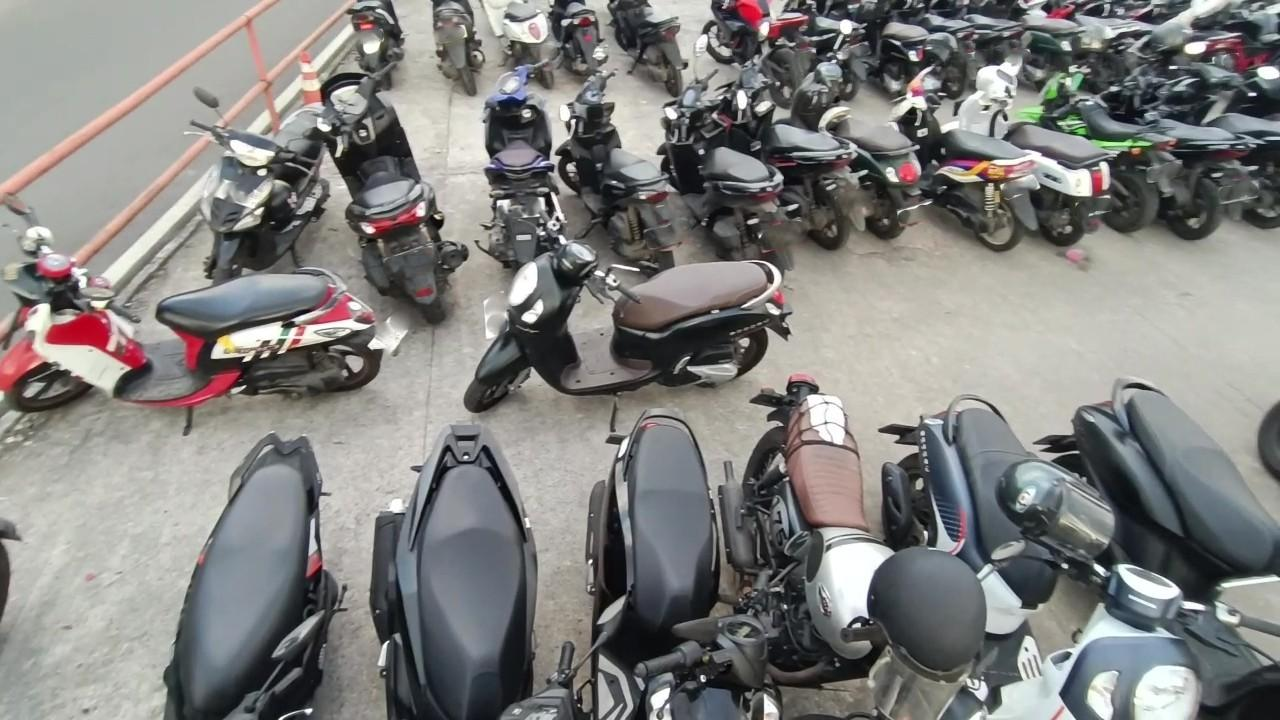motorcycle: (873, 390, 1204, 720), (0, 194, 399, 422), (1031, 371, 1280, 717), (721, 371, 967, 720), (459, 206, 789, 409), (589, 413, 806, 720), (374, 418, 572, 720), (163, 431, 352, 720), (307, 39, 469, 327), (940, 43, 1114, 275), (890, 39, 1034, 272), (784, 19, 927, 247), (717, 26, 855, 262), (659, 37, 788, 287), (189, 83, 337, 291), (557, 39, 676, 290), (471, 47, 575, 279), (604, 0, 692, 94), (333, 0, 414, 94), (421, 0, 485, 94), (487, 0, 554, 88), (548, 0, 603, 84)
